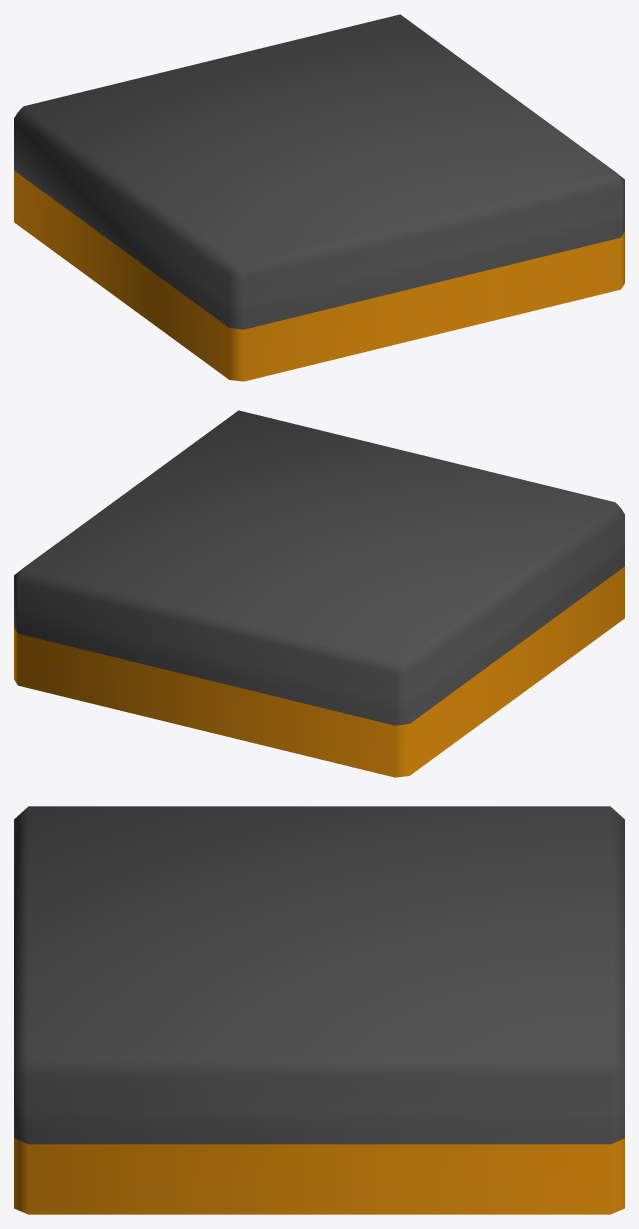
The model's file is RoofAdd_2_C_3.fbx.
3 views of the same model, one above another, from view 1: azimuth 30°, elevation 25°; view 2: azimuth 150°, elevation 25°; view 3: azimuth 270°, elevation 25° (orthographic). The views are drawn at different scales.
Parts seen in each view (by area): view 1: RoofAdd_2_C_3; view 2: RoofAdd_2_C_3; view 3: RoofAdd_2_C_3.
Boxes of the visible parts, x1=… form: RoofAdd_2_C_3: x1=14, y1=14, x2=624, y2=381; RoofAdd_2_C_3: x1=14, y1=410, x2=624, y2=777; RoofAdd_2_C_3: x1=14, y1=806, x2=624, y2=1214.
Size of the model in its own units: 270 by 74.17 by 267.
